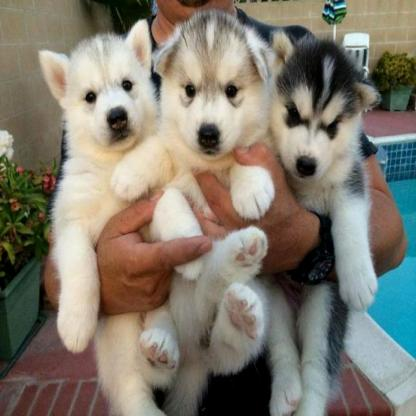dog: (35, 20, 202, 416), (116, 10, 271, 416), (230, 27, 380, 416)
